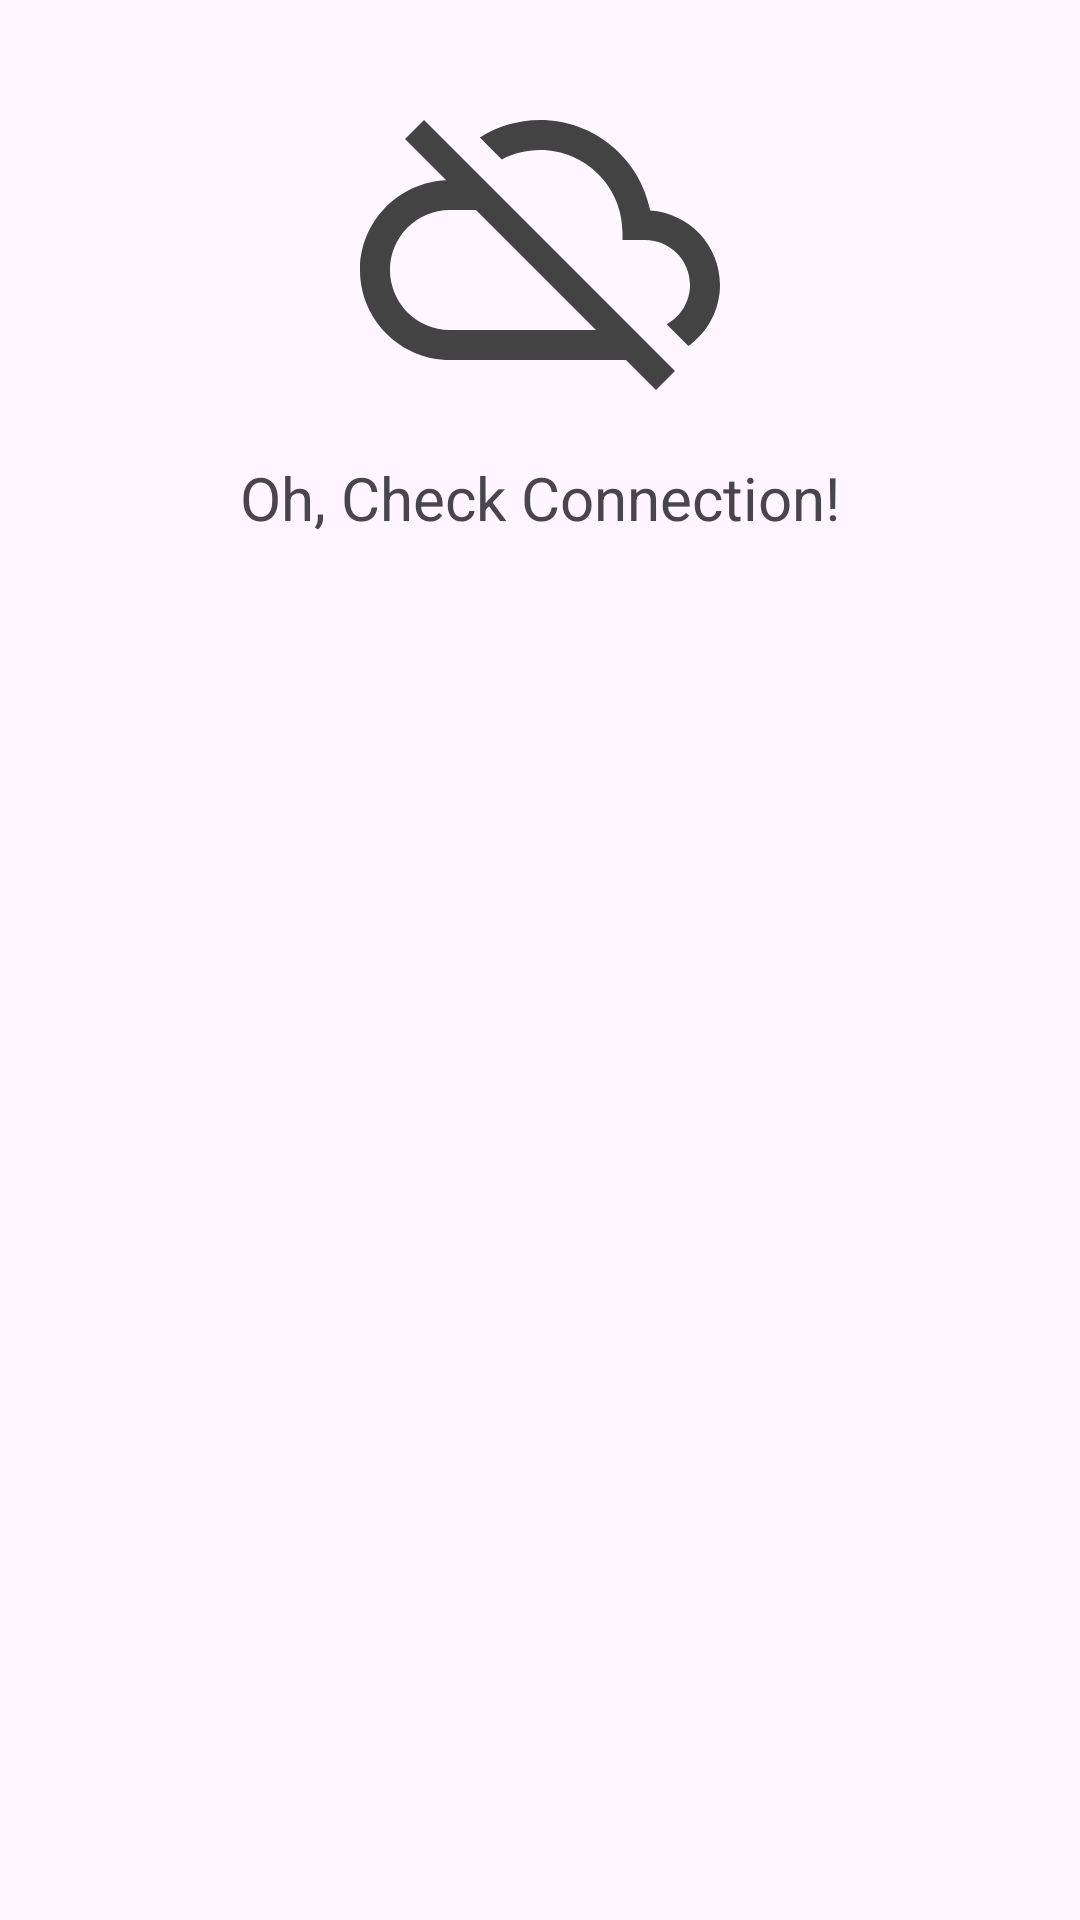

Icons on this 1080w x 1920h Android screen, each with the point to tap as point (x, y):
error: point (540, 255)
